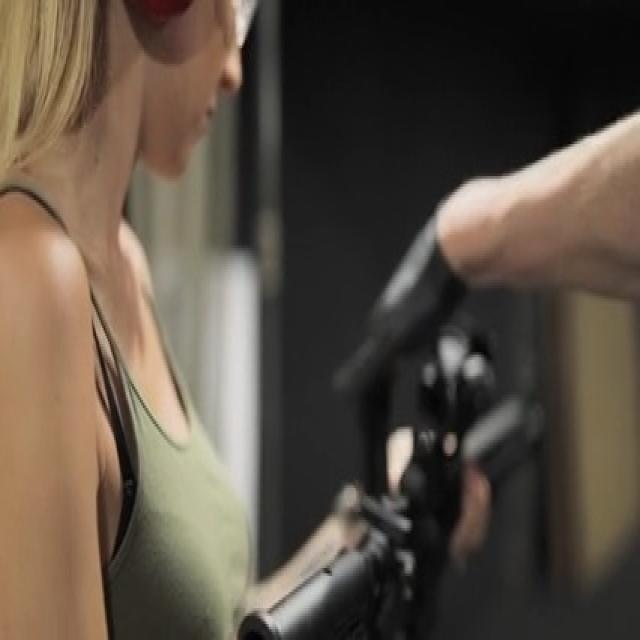Gun_Holder: (164, 304, 602, 640)
Person: (0, 0, 320, 640)
